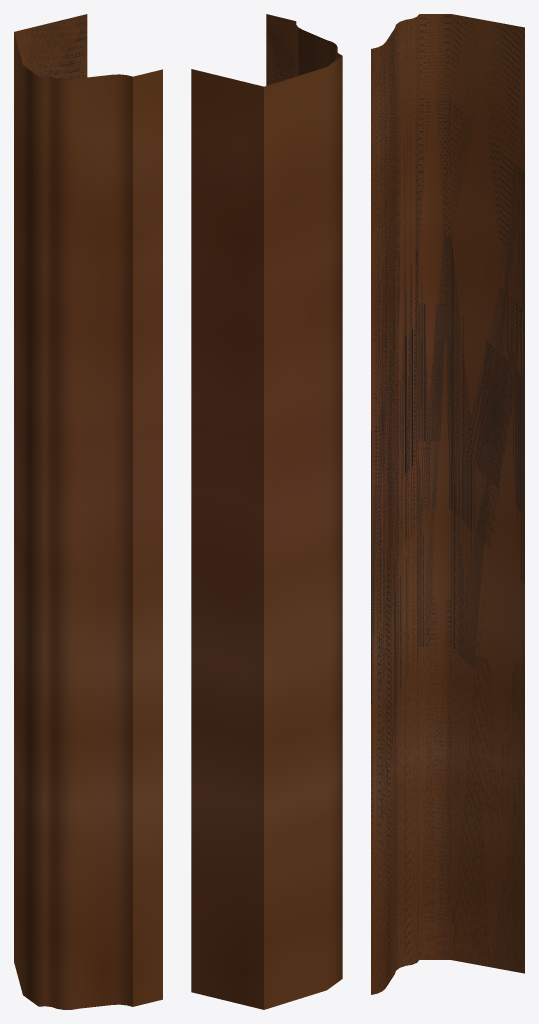
Rendered from original-43.obj.
3 views of the same model, side by side, from view 1: azimuth 30°, elevation 25°; view 2: azimuth 150°, elevation 25°; view 3: azimuth 270°, elevation 25° (orthographic). The views are drawn at different scales.
Visible parts, largest first — view 1: DF_12_CL1/DF_12_CL/mesh30/mesh30-geometry#mesh30-geometry; view 2: DF_12_CL1/DF_12_CL/mesh30/mesh30-geometry#mesh30-geometry; view 3: DF_12_CL1/DF_12_CL/mesh30/mesh30-geometry#mesh30-geometry.
Boxes of the visible parts, box(x1,y1,x2,y2) form: DF_12_CL1/DF_12_CL/mesh30/mesh30-geometry#mesh30-geometry: box(14, 14, 162, 1009); DF_12_CL1/DF_12_CL/mesh30/mesh30-geometry#mesh30-geometry: box(191, 14, 342, 1009); DF_12_CL1/DF_12_CL/mesh30/mesh30-geometry#mesh30-geometry: box(371, 14, 524, 994).
Size of the model in its own units: 0.0217 by 0.1917 by 0.0283.
